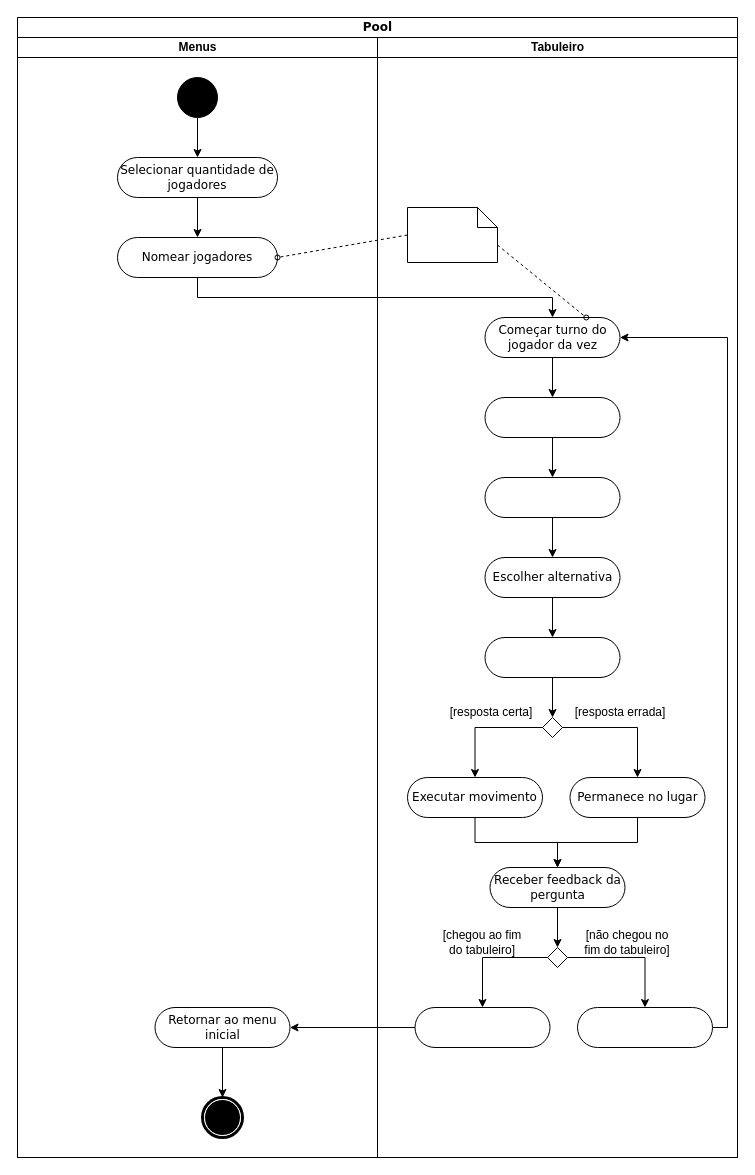
This 755x1175 diagram has some shape labels left out. Each missing label, with the centre of its shape:
"Confirmar escolha" goes at point (552, 657).
"Faz aposta" goes at point (552, 497).
"Jogo começa" goes at point (452, 234).
"Mostrar tela de vitória" goes at point (482, 1027).
"Passa a vez para o próximo jogador" goes at point (644, 1027).
"Recebe pergunta" goes at point (552, 417).
